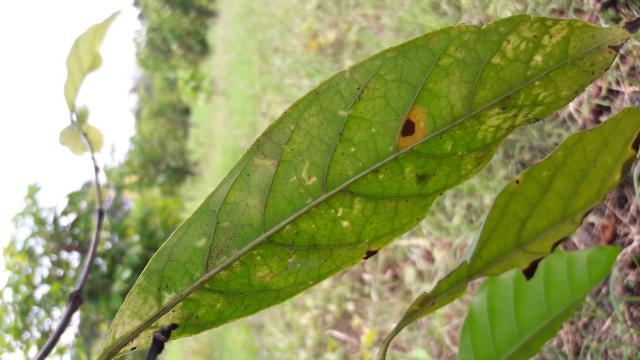rust_level_1: (102, 8, 640, 352)
